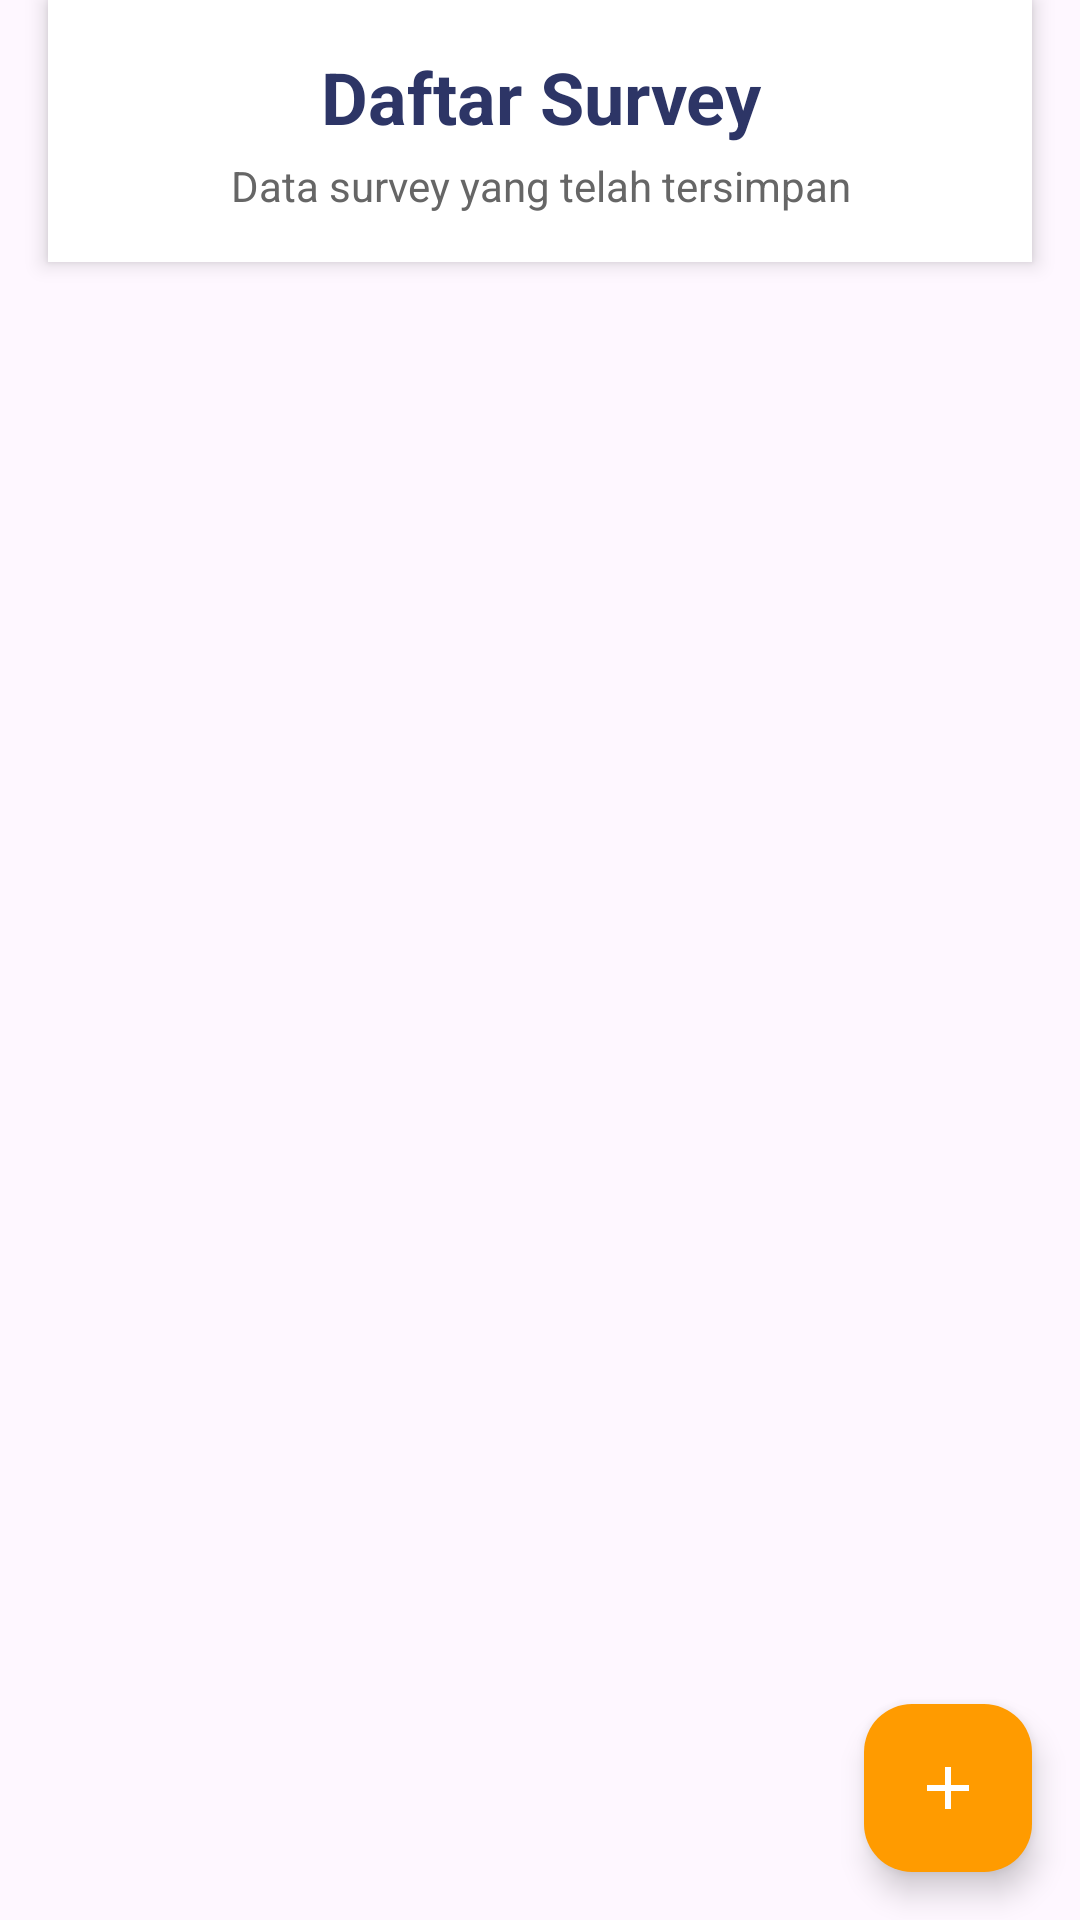

Named icons in this screenshot (1080px×1920px) and their centers, (x=x, y=y):
Add Survey: (x=948, y=1788)
